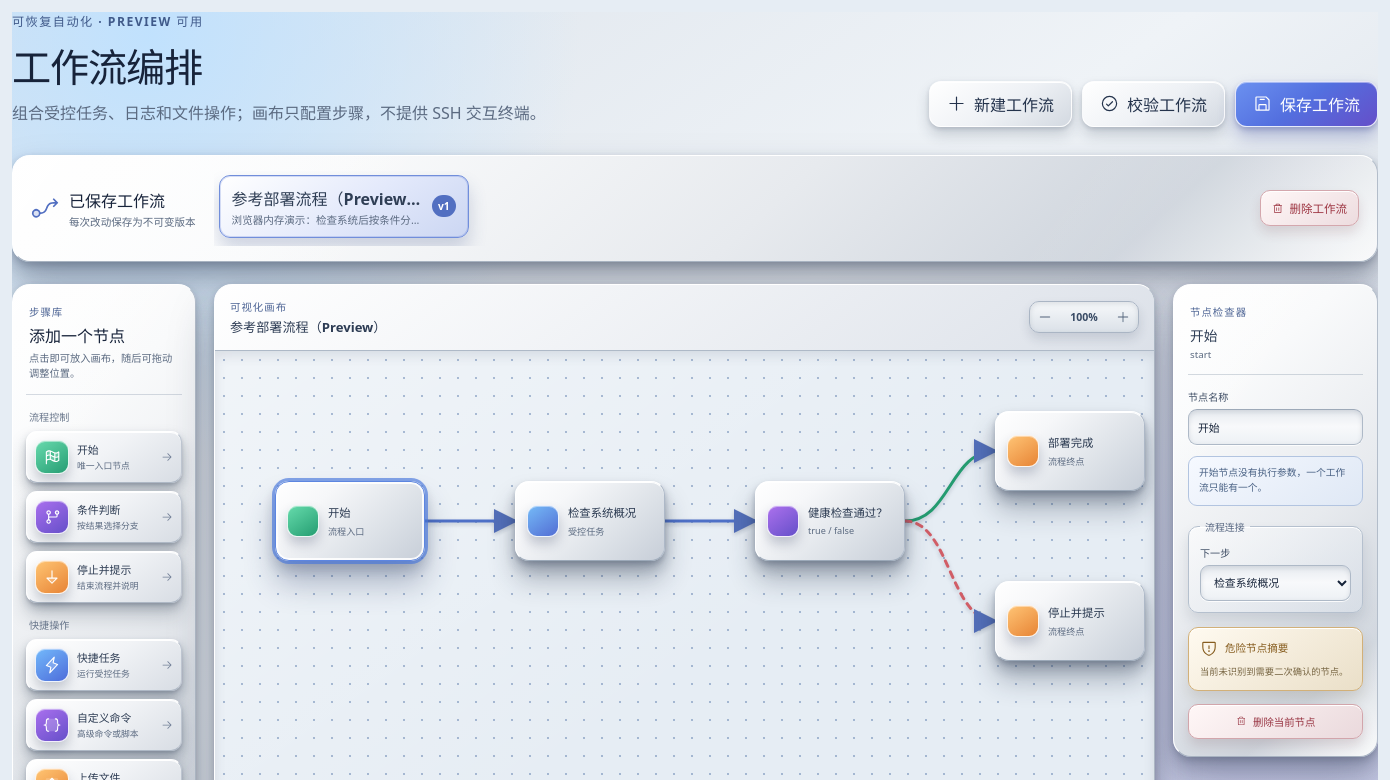
Test case: WorkflowPage canvas › shows workflow records, eight step types, selectable nodes and SVG connections
This screenshot has width=1390, height=780.
Expected: the button "参考部署流程（Preview） 浏览器内存演示：检查系统后按条件分支，不连接真实服务器。 v1" is shown, x1=219 y1=175 x2=469 y2=238
Expected: the button with aria-label "添加自定义命令步骤" is shown, x1=26 y1=699 x2=182 y2=751
Click the button "检查系统概况 受控任务" at (590, 521), box x1=515 y1=481 x2=665 y2=561
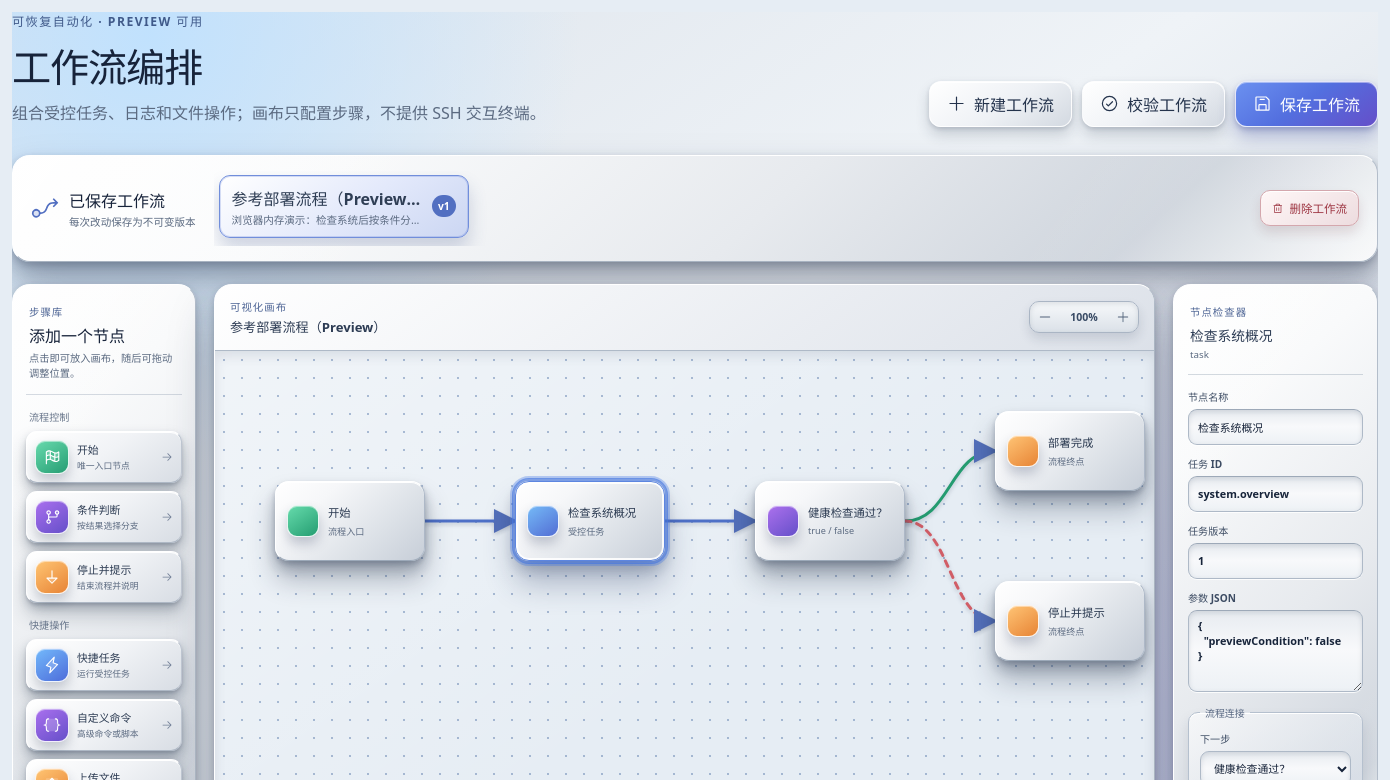
Expected: the button "检查系统概况 受控任务" is pressed, x1=515 y1=481 x2=665 y2=561
